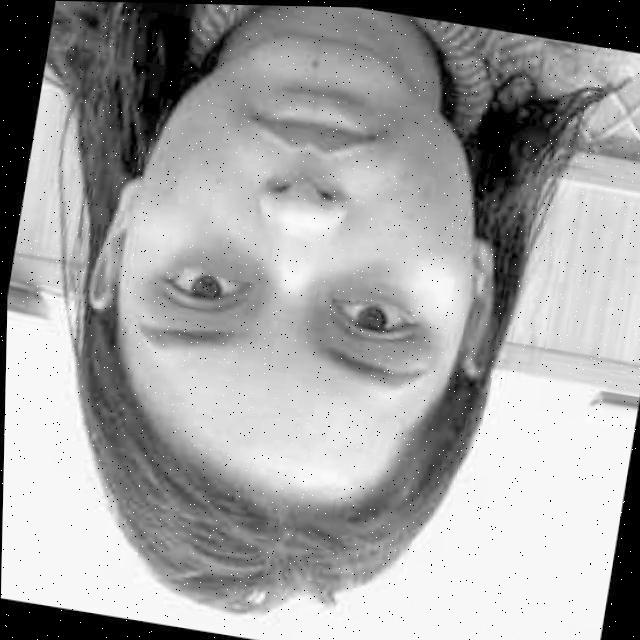puffy_eyes: (310, 263, 415, 304), (181, 241, 265, 286)
